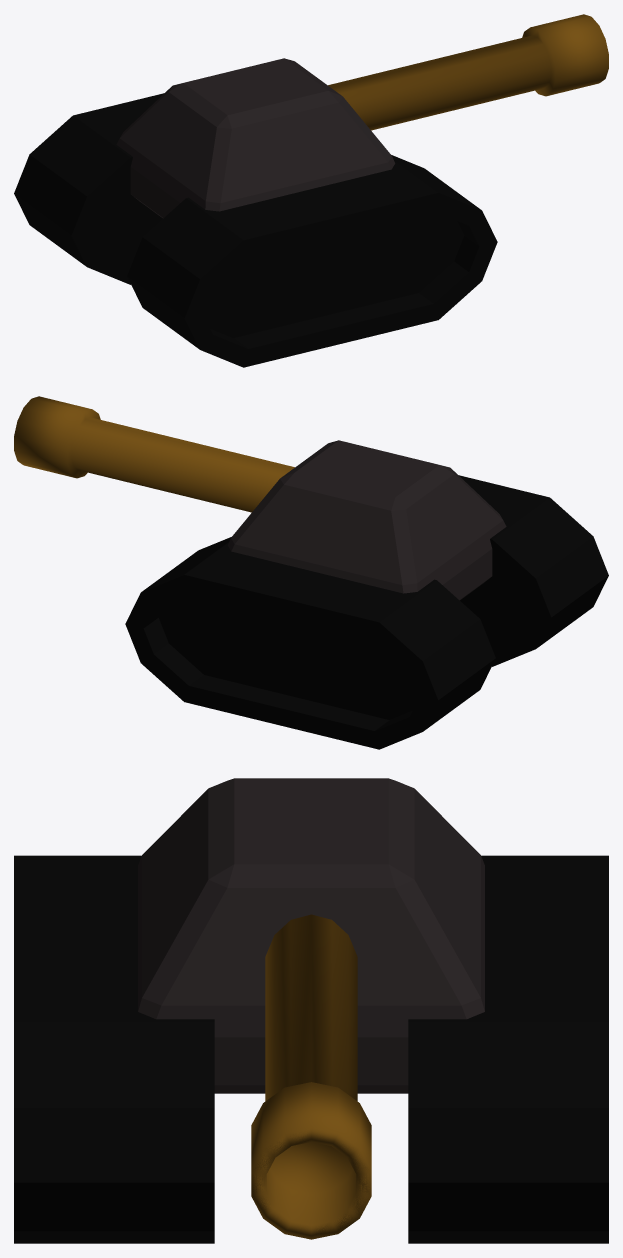
File: Tank.fbx
3 renders of one model, top to bottom at view 1: azimuth 30°, elevation 25°; view 2: azimuth 150°, elevation 25°; view 3: azimuth 270°, elevation 25°, orthographic. The views are drawn at different scales.
Visible parts, largest first — view 1: Tank; view 2: Tank; view 3: Tank.
Boxes of the visible parts, x1,y1,x2,y2 form: Tank: (14,14,608,367); Tank: (14,396,608,749); Tank: (14,778,608,1243).
Size of the model in its own units: 132 by 49.93 by 79.34.
